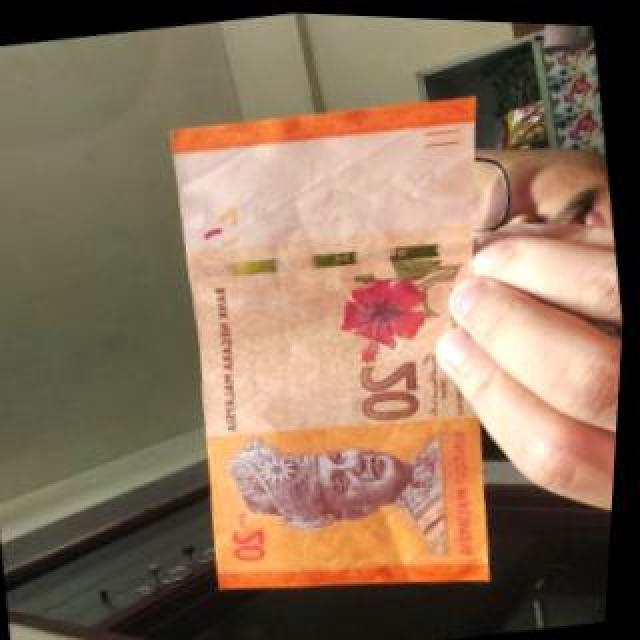20 Ringgit: (152, 80, 541, 625)
